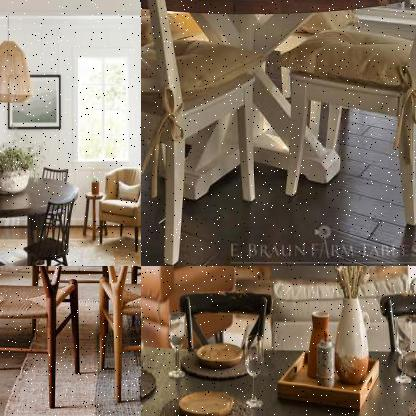table: (141, 0, 415, 207), (141, 334, 415, 415), (0, 266, 140, 362), (0, 169, 81, 265)
